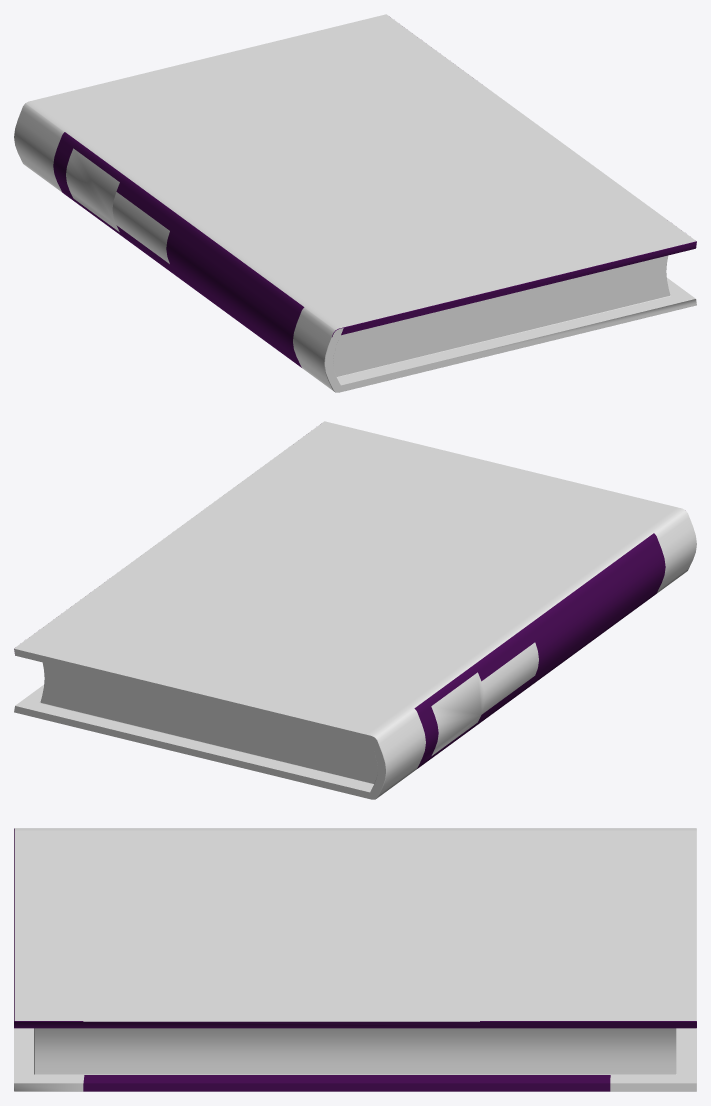
The model's file is Buch3.fbx.
3 views of the same model, one above another, from view 1: azimuth 30°, elevation 25°; view 2: azimuth 150°, elevation 25°; view 3: azimuth 270°, elevation 25° (orthographic). The views are drawn at different scales.
Visible parts, largest first — view 1: Buch3; view 2: Buch3; view 3: Buch3.
Part boxes in pixels (<box>): Buch3: <box>14,14,696,392</box>; Buch3: <box>14,421,696,799</box>; Buch3: <box>14,828,696,1091</box>.
Bounding box in the file's own units: 163 × 26.76 × 235.
